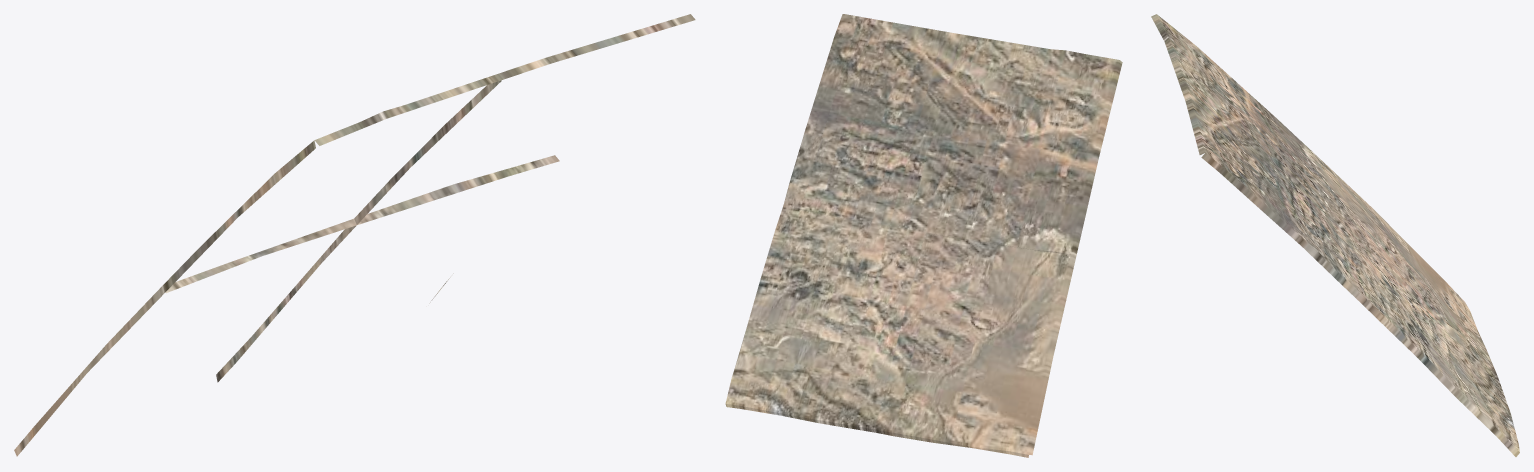
The picture shows the model from 3 angles, left to right: view 1: azimuth 30°, elevation 25°; view 2: azimuth 150°, elevation 25°; view 3: azimuth 270°, elevation 25°; orthographic projection. The views are drawn at different scales.
Bounding box in the file's own units: 527611 × 475206 × 494209.
1 material, 1 textured.
